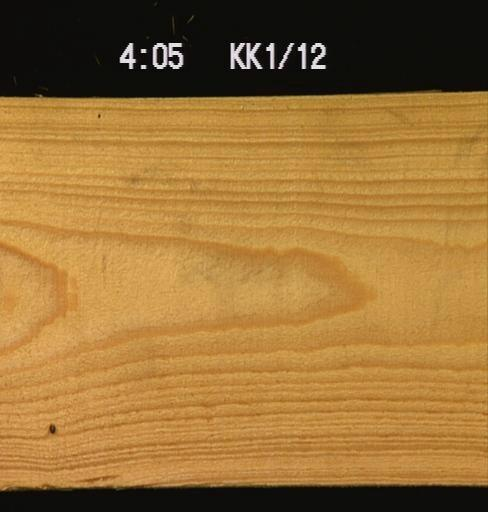dry_knot: (47, 421, 56, 435)
